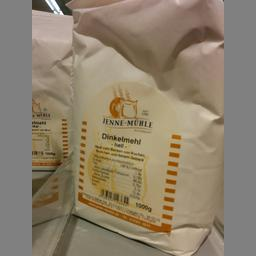flour: (65, 1, 223, 255)
